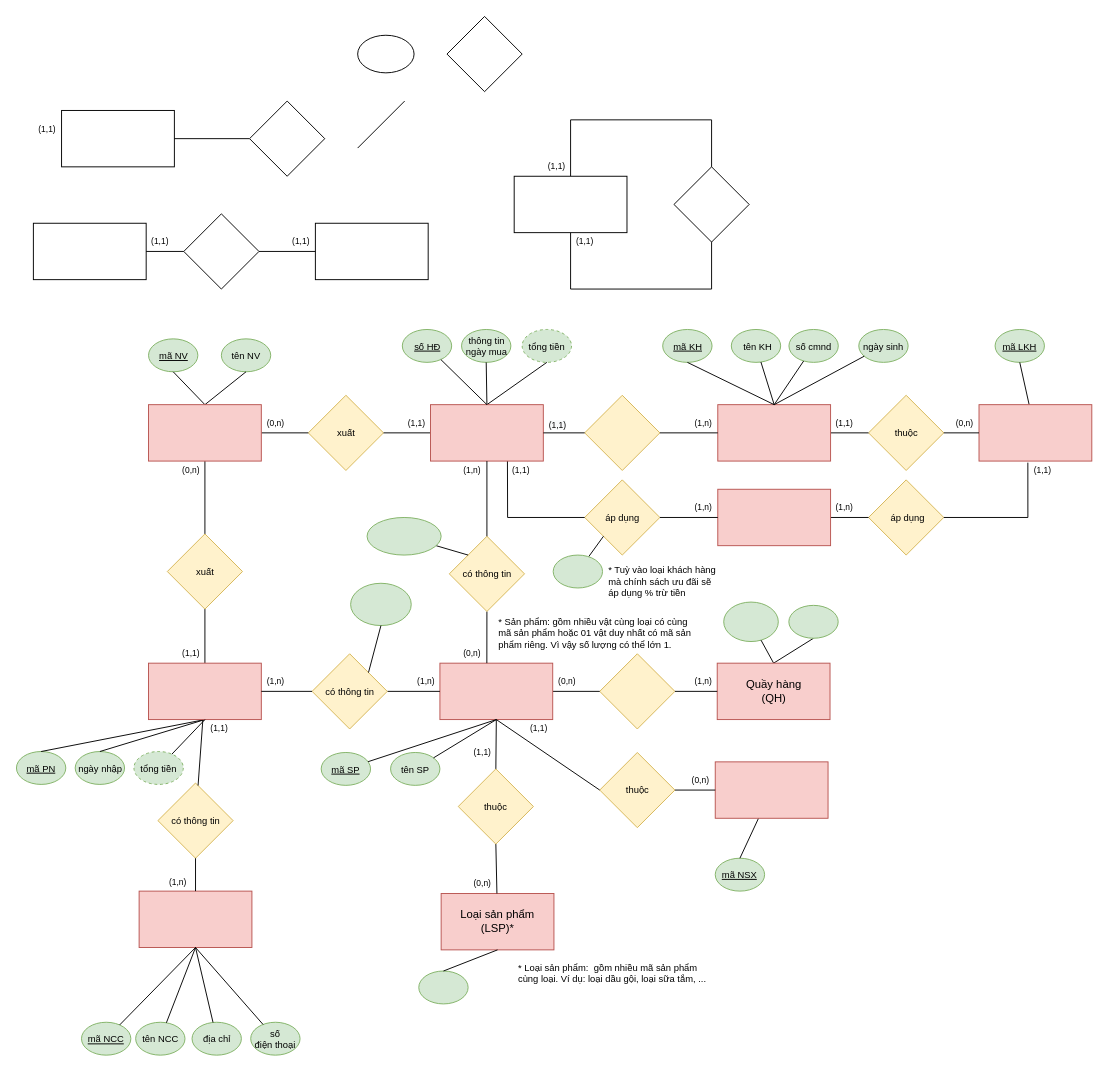
This 1108x1072 diagram has some shape labels left out. The centre of each missing label's shape, as x and y in pixels:
% trừ tiền: the point at 577,571
Chính sách ưu đãi (CSƯĐ): the point at 774,517
Hoá đơn (HĐ): the point at 486,432
Hãng sản xuất (NSX): the point at 771,789
Khách hàng (KH): the point at 774,432
Loại Khách hàng (LKH): the point at 1035,432
mã LSP: the point at 443,987
Nhà cung cấp (NCC): the point at 195,919
Nhân viên (NV): the point at 204,432
Phiếu nhập (PN): the point at 204,691
Sản phẩm (SP)*: the point at 496,691
số lượng mua SP: the point at 403,536
số lượng nhập SP: the point at 380,604
số ngăn: the point at 813,621
thông tin vị trí QH: the point at 750,621
được bố trí: the point at 637,691
được xuất: the point at 622,432
